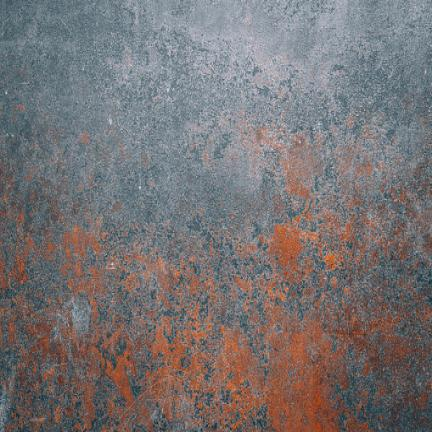karat: (36, 325, 341, 431)
